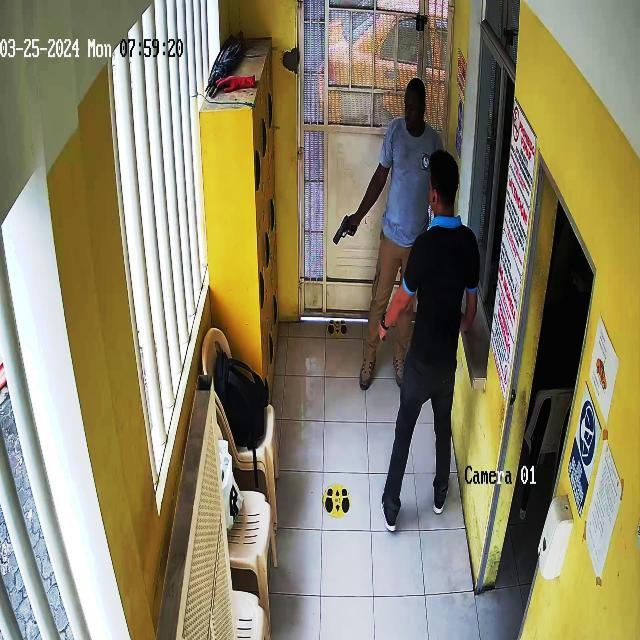Gun: (327, 206, 364, 258)
